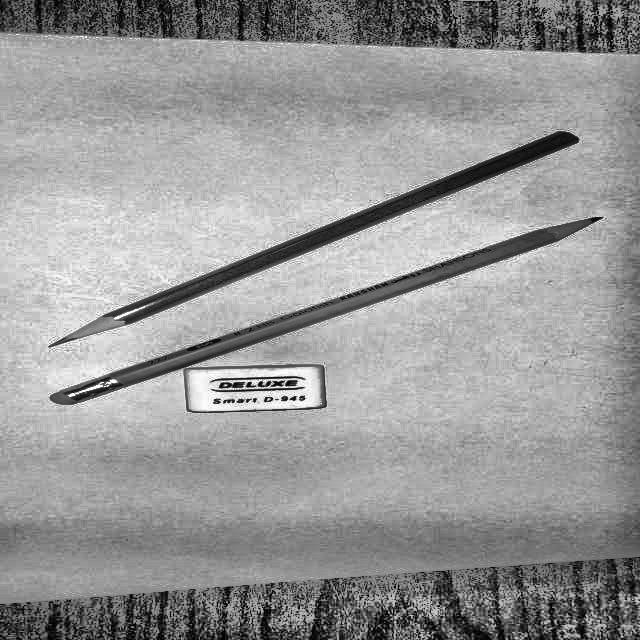eraser: (183, 367, 327, 420)
